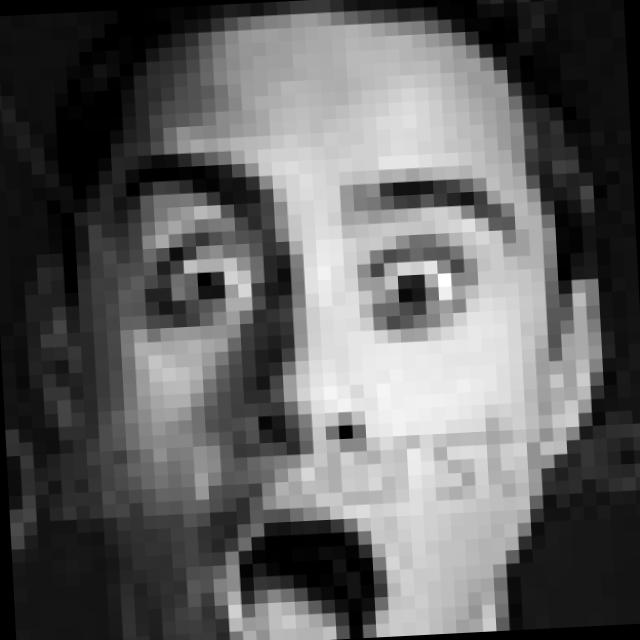surprise: (102, 117, 553, 640)
